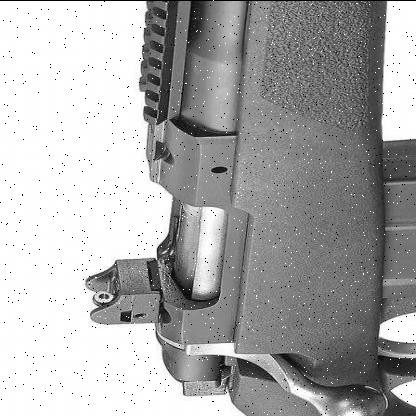rifle: (74, 1, 416, 416)
